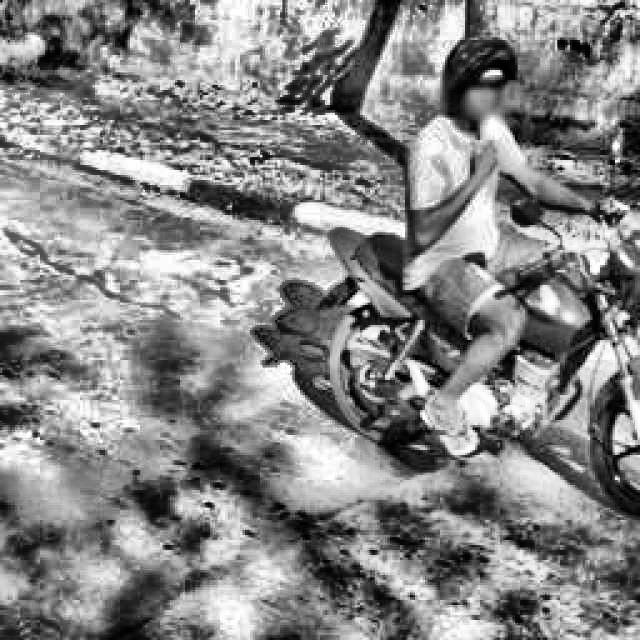motorcycle: (300, 159, 640, 521)
